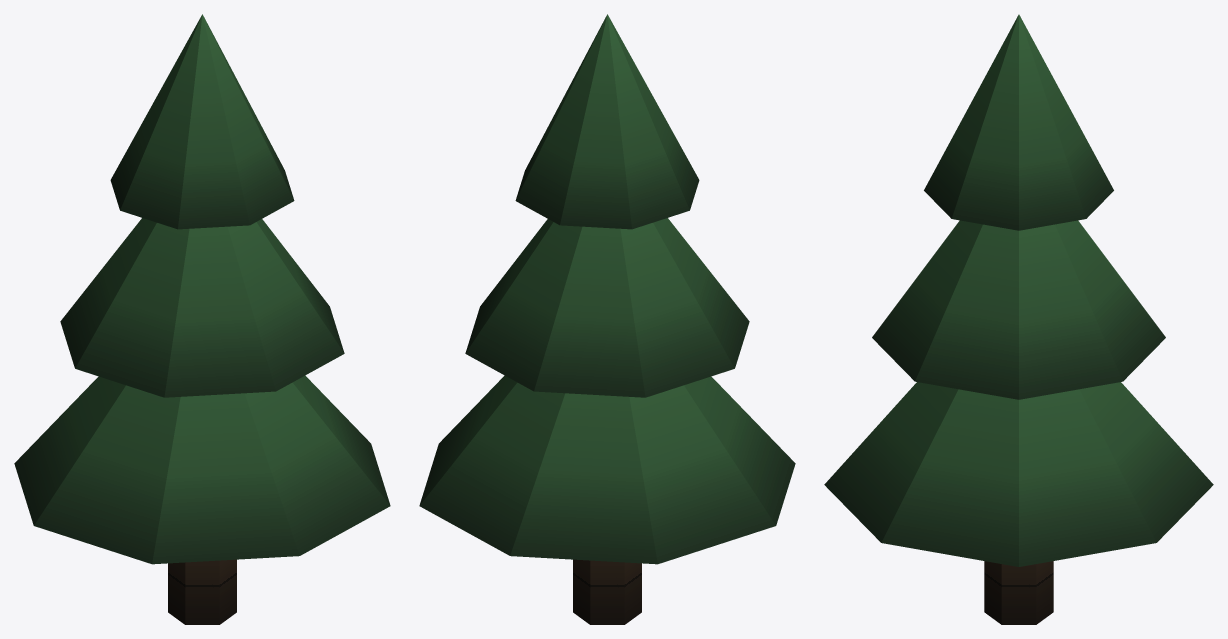
The model's file is pine.glb.
3 views of the same model, side by side, from view 1: azimuth 30°, elevation 25°; view 2: azimuth 150°, elevation 25°; view 3: azimuth 270°, elevation 25° (orthographic).
Parts seen in each view (by area): view 1: pine; view 2: pine; view 3: pine.
Part boxes in pixels (x1,y1,x2,y2): pine: [14, 14, 390, 624]; pine: [419, 14, 795, 624]; pine: [824, 14, 1213, 624].
Size of the model in its own units: 0.9 by 1.52 by 0.9.
Materials: 1 (1 with a texture image).
